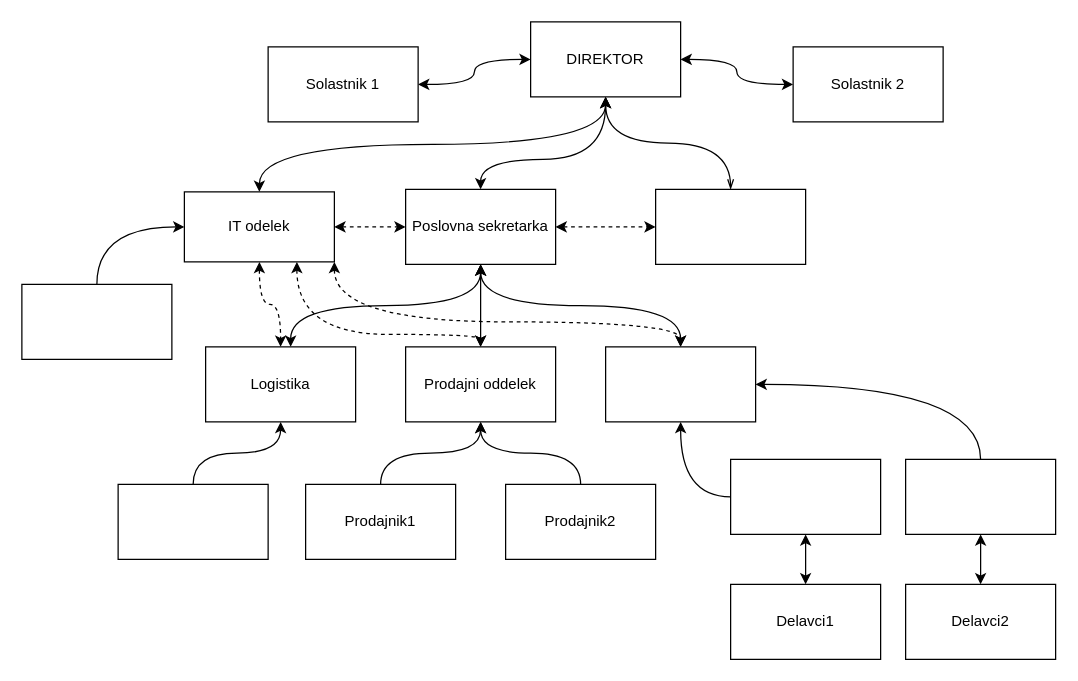
This 1078x681 diagram has some shape labels left out. Here are the shapes that lost their labels. From the top down, the box of each, then its label:
(654, 188, 806, 264): Računovodkinja
(21, 283, 172, 359): IT Koordinator
(604, 346, 756, 422): Proizvodnja
(729, 458, 881, 534): Vodja Proizvodnje1
(904, 458, 1056, 534): Vodja Proizvodnje2
(117, 483, 268, 559): Skladiščnik in voznik
